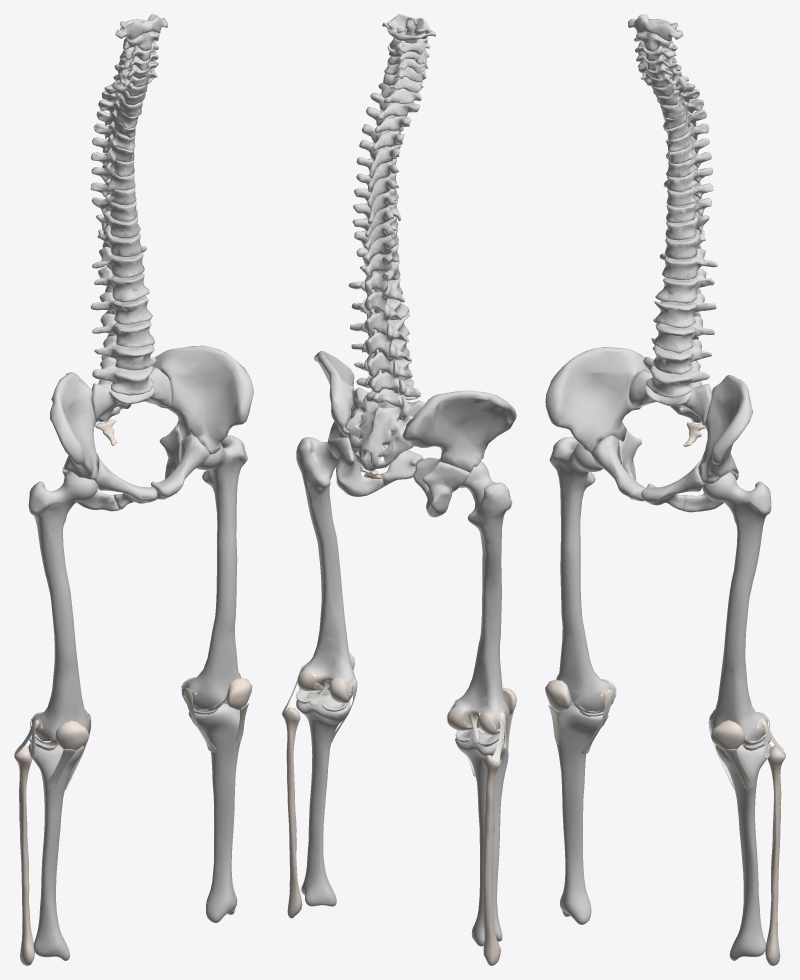
The model's file is skeleton.glb.
3 renders of one model, left to right at view 1: azimuth 30°, elevation 25°; view 2: azimuth 150°, elevation 25°; view 3: azimuth 330°, elevation 25°, orthographic. The views are drawn at different scales.
Visible parts, largest first — view 1: HRA-VH_F_femur_R, HRA-VH_F_femur_L, HRA-VH_F_ilium_compact_bone_L, HRA-VH_F_tibia_L, HRA-VH_F_tibia_R, HRA-VH_F_ilium_compact_bone_R, HRA-VH_F_fibula_R, HRA-VH_F_sacrum, HRA-VH_F_pubis_compact_bone_L, HRA-VH_F_lumbar_vertebra_6, HRA-VH_F_pubis_compact_bone_R, HRA-VH_F_lumbar_vertebra_4 (+17 smaller); view 2: HRA-VH_F_femur_R, HRA-VH_F_femur_L, HRA-VH_F_ilium_compact_bone_R, HRA-VH_F_tibia_L, HRA-VH_F_sacrum, HRA-VH_F_tibia_R, HRA-VH_F_fibula_R, HRA-VH_F_fibula_L, HRA-VH_F_ilium_compact_bone_L, HRA-VH_F_ischium_compact_bone_L, HRA-VH_F_ischium_compact_bone_R, HRA-VH_F_lumbar_vertebra_3 (+21 smaller); view 3: HRA-VH_F_femur_L, HRA-VH_F_femur_R, HRA-VH_F_ilium_compact_bone_R, HRA-VH_F_tibia_R, HRA-VH_F_tibia_L, HRA-VH_F_ilium_compact_bone_L, HRA-VH_F_fibula_L, HRA-VH_F_sacrum, HRA-VH_F_pubis_compact_bone_R, HRA-VH_F_lumbar_vertebra_6, HRA-VH_F_pubis_compact_bone_L, HRA-VH_F_lumbar_vertebra_4 (+17 smaller).
Boxes of the visible parts, x1,y1,x2,y2 form: HRA-VH_F_femur_R: (28,471,97,740); HRA-VH_F_femur_L: (182,435,247,709); HRA-VH_F_ilium_compact_bone_L: (153,345,253,454); HRA-VH_F_tibia_L: (188,703,240,922); HRA-VH_F_tibia_R: (28,740,83,960); HRA-VH_F_ilium_compact_bone_R: (50,372,99,480); HRA-VH_F_fibula_R: (14,745,34,965); HRA-VH_F_sacrum: (91,367,172,422); HRA-VH_F_pubis_compact_bone_L: (150,435,209,499); HRA-VH_F_lumbar_vertebra_6: (92,357,156,395); HRA-VH_F_pubis_compact_bone_R: (95,458,157,509); HRA-VH_F_lumbar_vertebra_4: (92,313,154,347); HRA-VH_F_femur_R: (452,461,512,729); HRA-VH_F_femur_L: (296,437,354,700); HRA-VH_F_ilium_compact_bone_R: (402,390,516,472); HRA-VH_F_tibia_L: (296,690,350,906); HRA-VH_F_sacrum: (345,387,425,471); HRA-VH_F_tibia_R: (455,727,508,946); HRA-VH_F_fibula_R: (482,755,501,965); HRA-VH_F_fibula_L: (282,707,302,918); HRA-VH_F_ilium_compact_bone_L: (314,351,354,439); HRA-VH_F_ischium_compact_bone_L: (328,437,383,496); HRA-VH_F_ischium_compact_bone_R: (422,461,470,517); HRA-VH_F_lumbar_vertebra_3: (350,312,410,359); HRA-VH_F_femur_L: (702,472,771,740); HRA-VH_F_femur_R: (549,437,615,711); HRA-VH_F_ilium_compact_bone_R: (545,347,650,453); HRA-VH_F_tibia_R: (554,705,608,924); HRA-VH_F_tibia_L: (715,739,771,960); HRA-VH_F_ilium_compact_bone_L: (698,375,752,484); HRA-VH_F_fibula_L: (765,745,785,965); HRA-VH_F_sacrum: (629,369,711,425); HRA-VH_F_pubis_compact_bone_R: (591,435,645,501); HRA-VH_F_lumbar_vertebra_6: (643,357,709,397); HRA-VH_F_pubis_compact_bone_L: (641,459,704,510); HRA-VH_F_lumbar_vertebra_4: (653,315,714,353).
Bounding box in the file's own units: 0.7773 × 3.13 × 0.3955.
